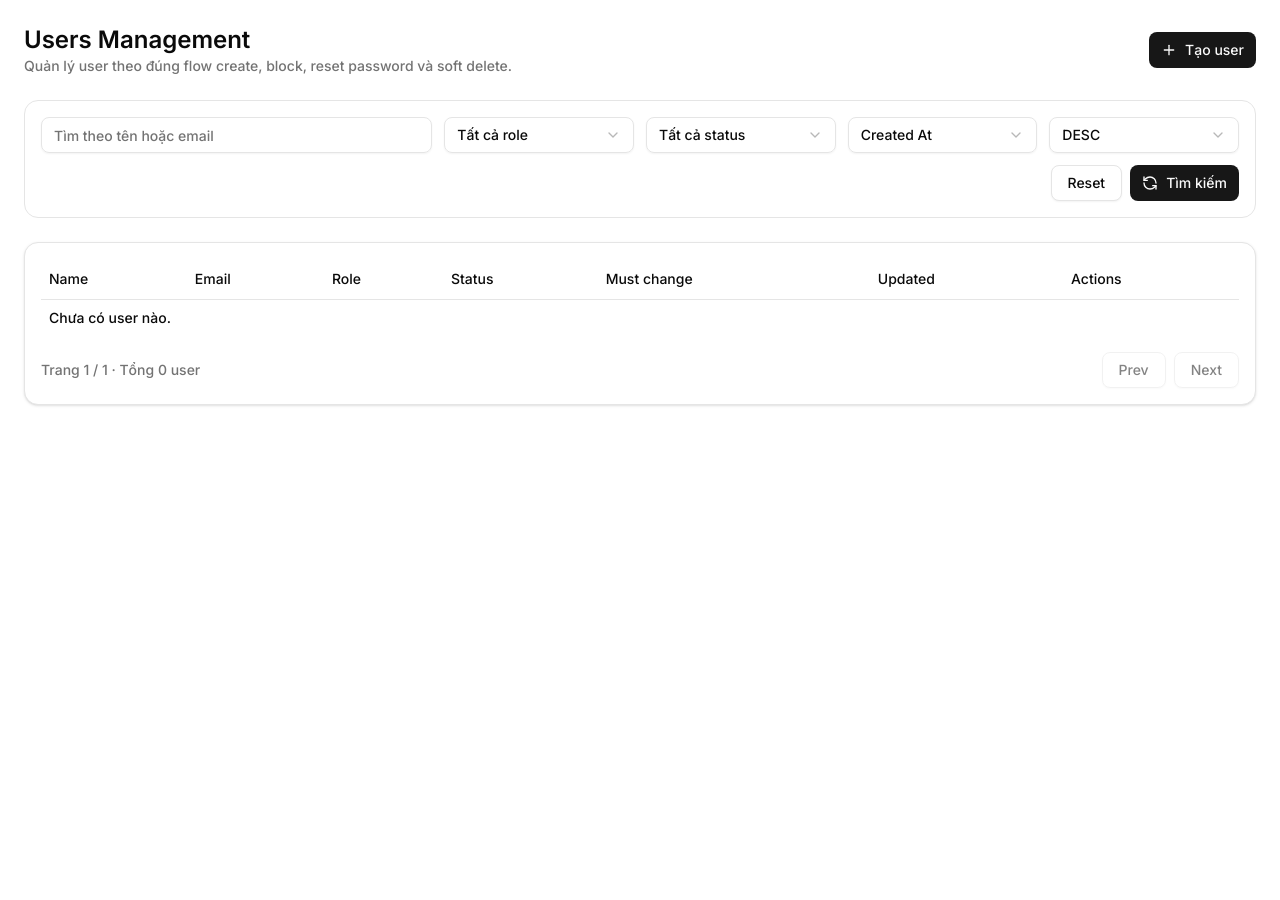
Test case: <UsersPage /> › opens the create-user dialog from the toolbar button
Expected: the text "Chưa có user nào." is shown, [41,299,1239,336]
Toolbar "Tạo user" button (the dialog also has one, so scope by dialog after click).
Click the button "Tạo user" at (1203, 50), box [1149,32,1256,68]
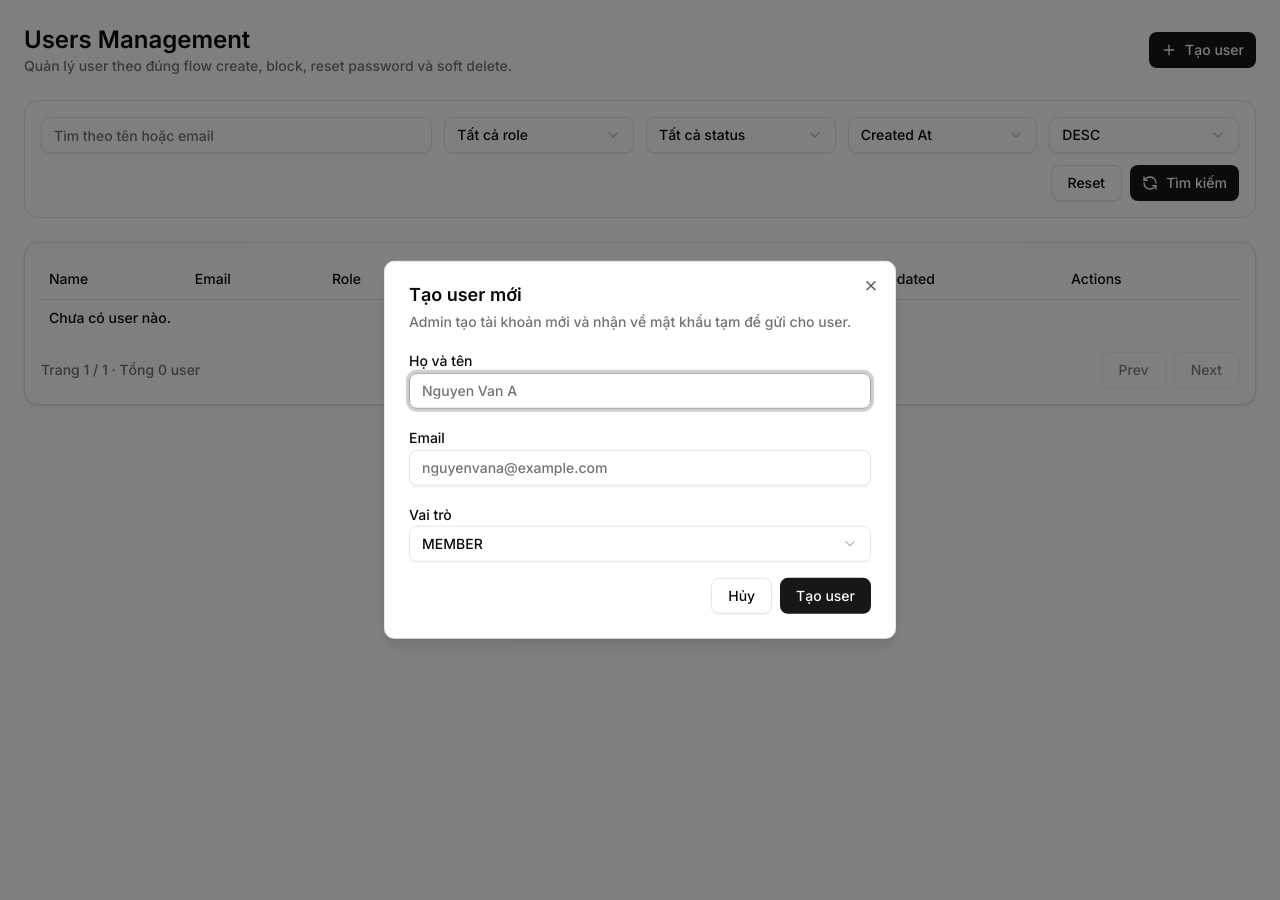
Now the heading "Tạo user mới" is shown, box [409,284,522,305]
